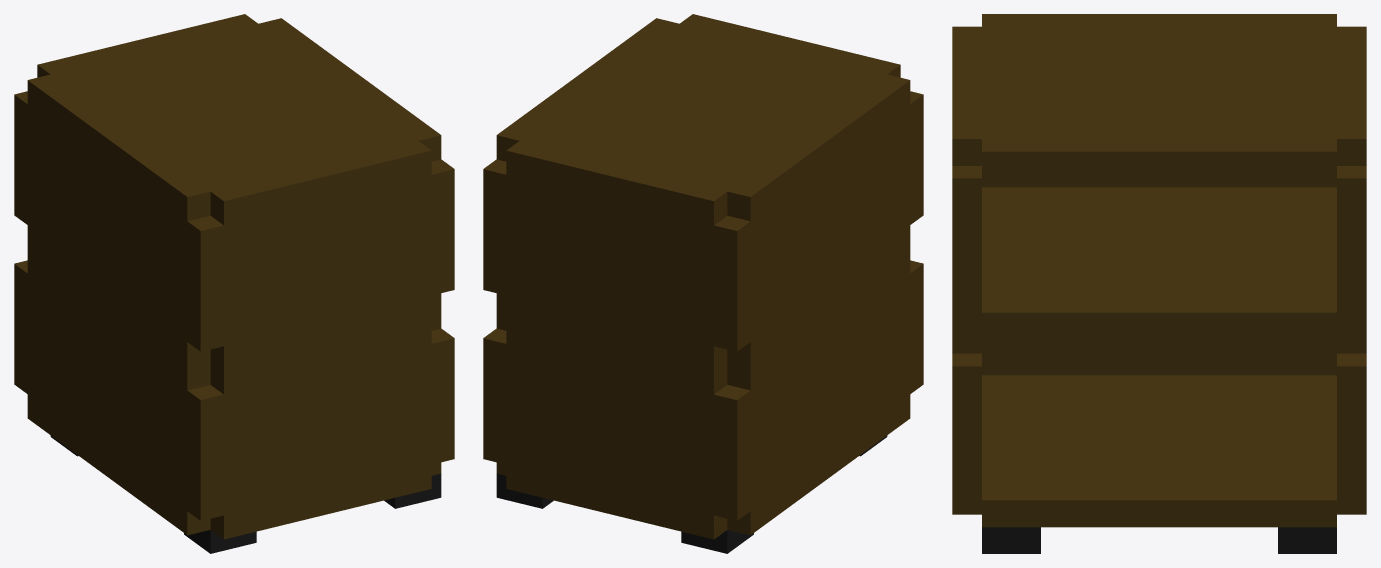
Rendered from KidsRoom-8.obj.
3 views of the same model, side by side, from view 1: azimuth 30°, elevation 25°; view 2: azimuth 150°, elevation 25°; view 3: azimuth 270°, elevation 25° (orthographic). The views are drawn at different scales.
Bounding box in the file's own units: 1.1 × 1.5 × 1.4.
1 material, 1 textured.
